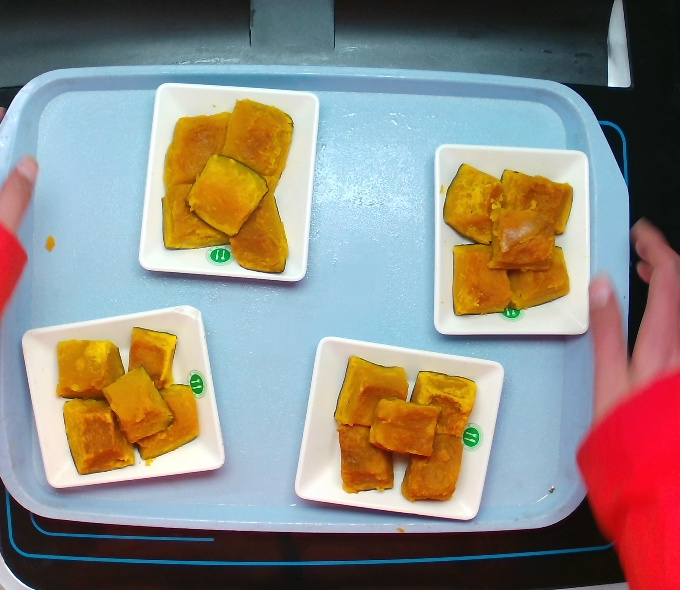wcq-RiBenNanGua: (44, 318, 209, 486), (431, 160, 582, 315), (330, 350, 477, 505), (168, 111, 296, 263)
